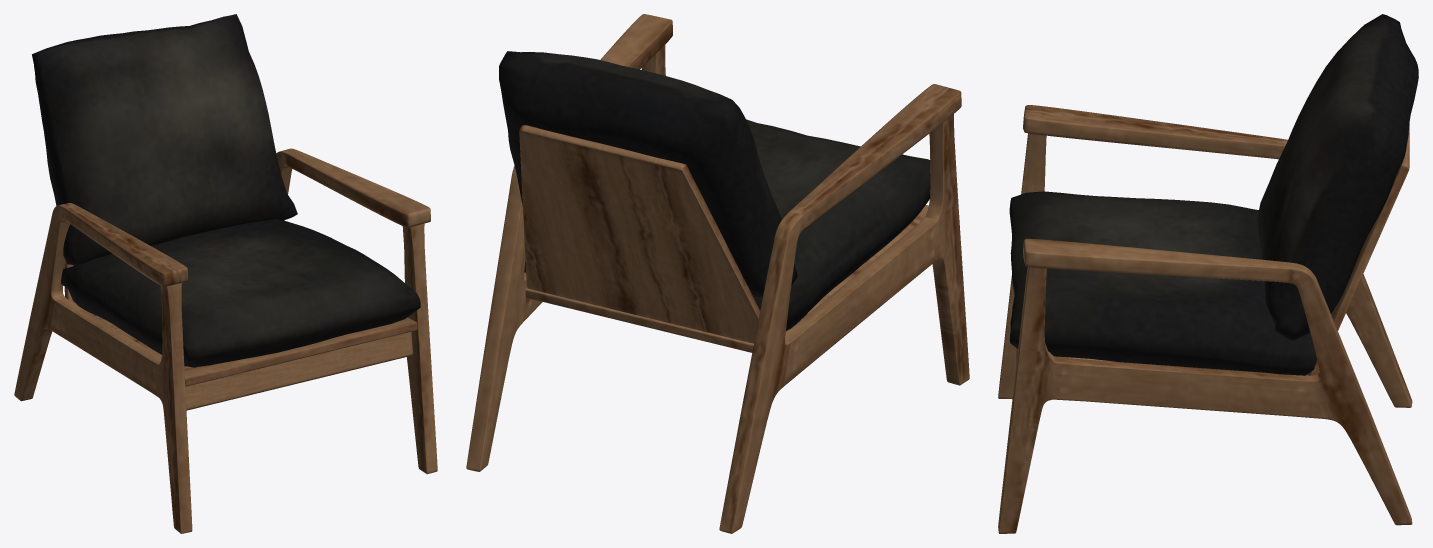
File: armchair.glb
The picture shows the model from 3 angles, left to right: view 1: azimuth 30°, elevation 25°; view 2: azimuth 150°, elevation 25°; view 3: azimuth 270°, elevation 25°; orthographic projection. The views are drawn at different scales.
Visible parts, largest first — view 1: modern_arm_chair_01; view 2: modern_arm_chair_01; view 3: modern_arm_chair_01.
Boxes of the visible parts, x1,y1,x2,y2 form: modern_arm_chair_01: (14,14,437,533); modern_arm_chair_01: (466,14,969,533); modern_arm_chair_01: (998,14,1418,533).
Size of the model in its own units: 0.8204 by 1.02 by 0.9866.
Materials: 2 (2 with a texture image).
